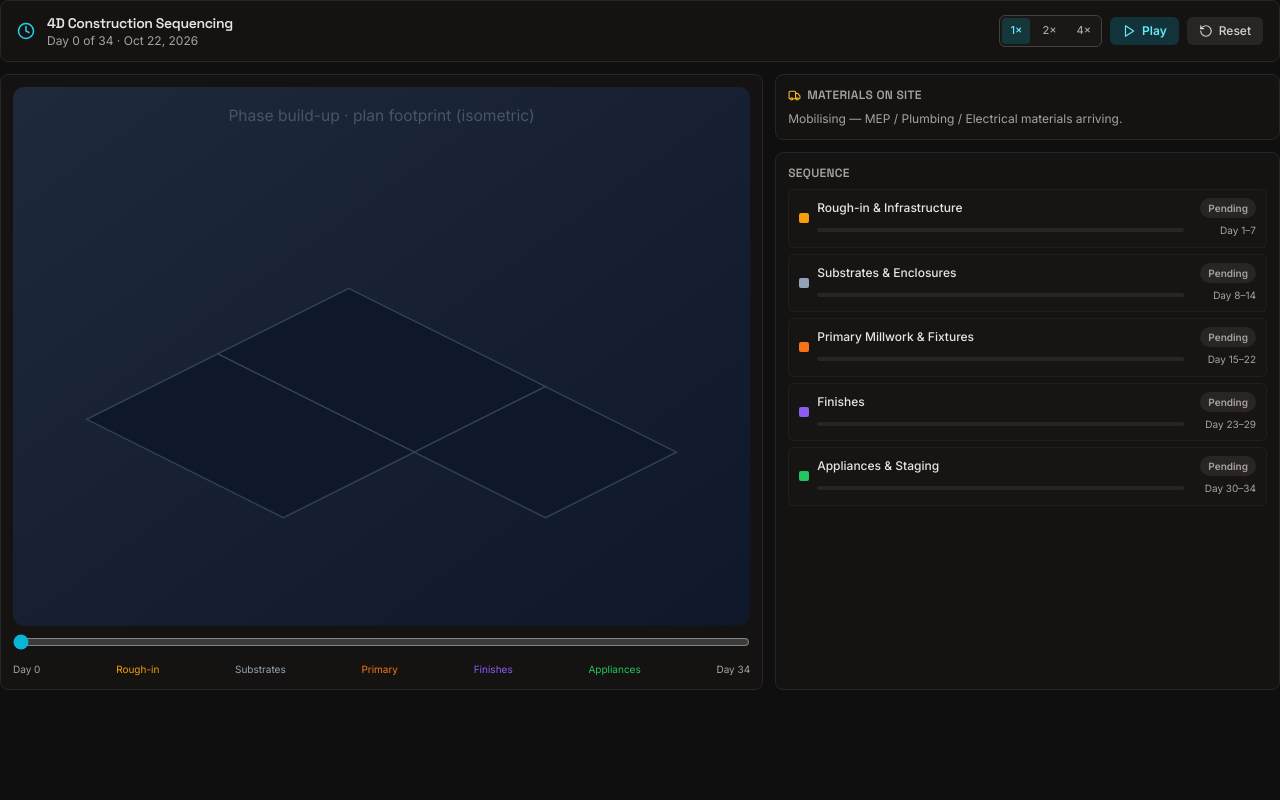
Test: ConstructionSequenceView › shows materials arriving for the active phase
Set the slider named "Construction timeline" to "3": (85, 642) [13,634,750,650]
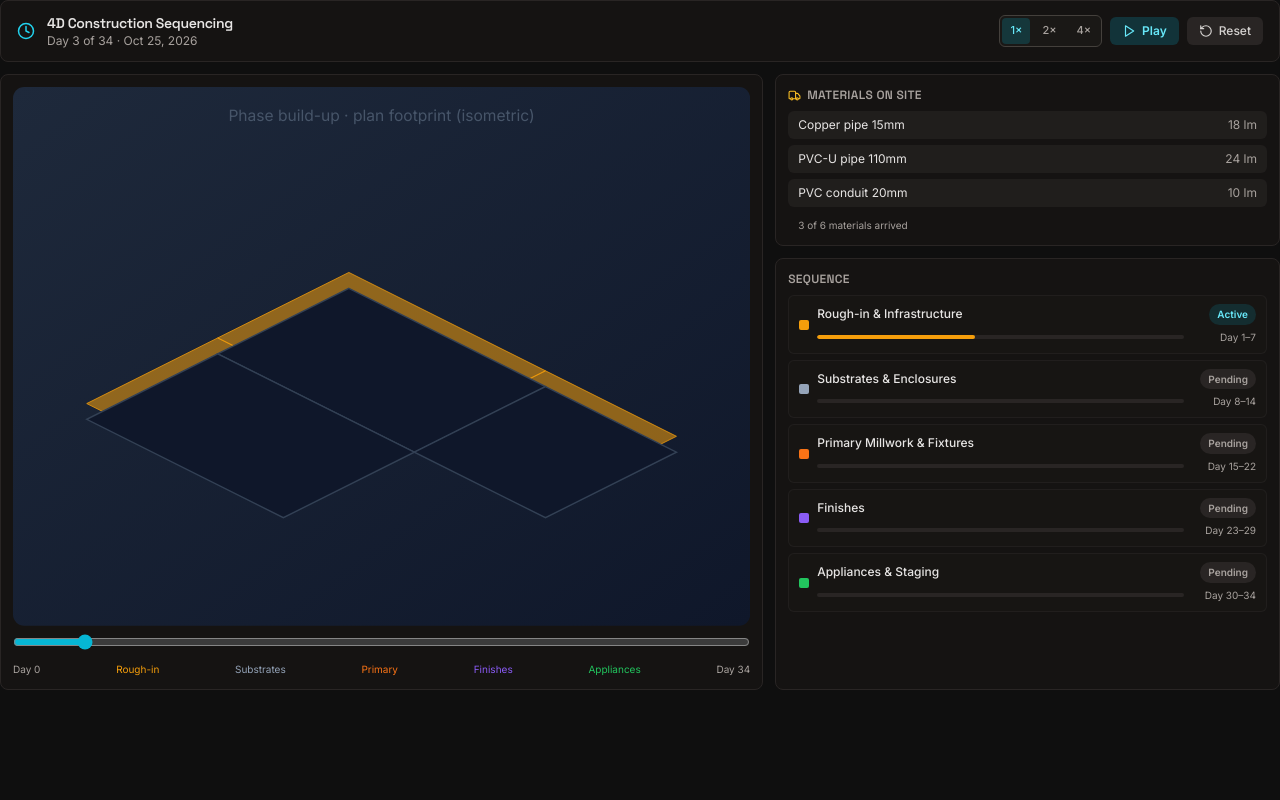
expect the heading "Materials on site" is shown: met, box [788,87,922,103]
expect the list item "Copper pipe 15mm 18 lm" is shown: met, box [788,111,1267,139]
